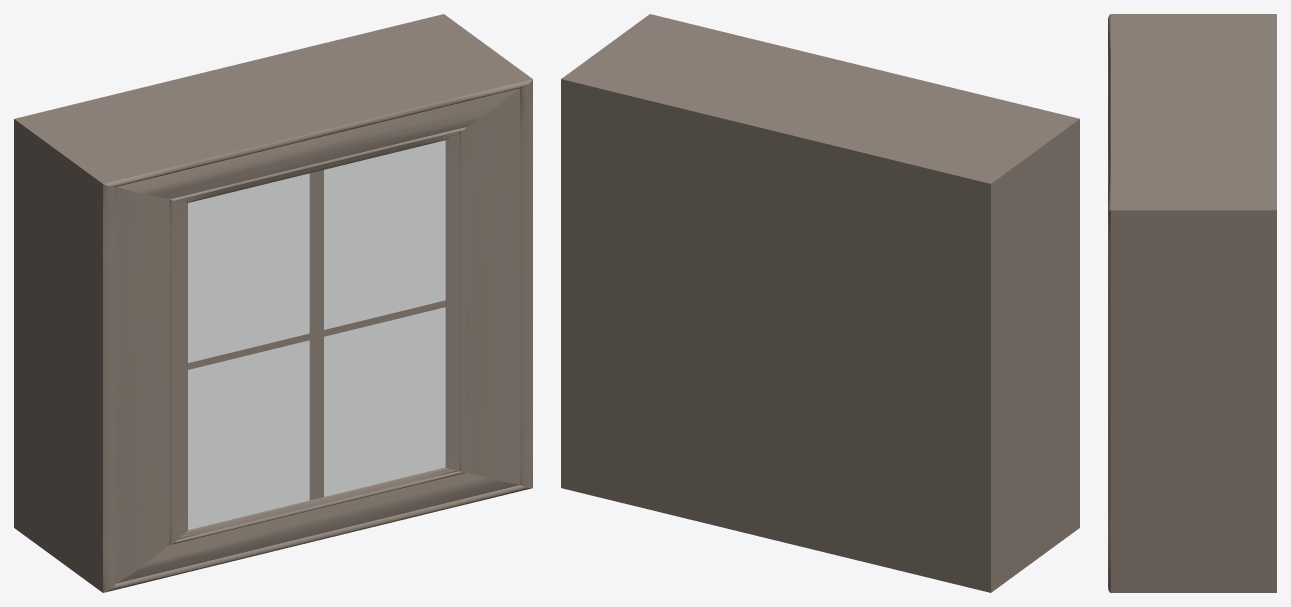
Rendered from Wall-Cabinet-with-Doors-Prepped-for-Glass_std_001_W33in.glb.
The picture shows the model from 3 angles, left to right: view 1: azimuth 30°, elevation 25°; view 2: azimuth 150°, elevation 25°; view 3: azimuth 270°, elevation 25°; orthographic projection. The views are drawn at different scales.
Visible parts, largest first — view 1: Wall-Cabinet-with-Doors-Prepped-for-Glass.std.001_W33in; view 2: Wall-Cabinet-with-Doors-Prepped-for-Glass.std.001_W33in; view 3: Wall-Cabinet-with-Doors-Prepped-for-Glass.std.001_W33in.
Part boxes in pixels (left/top/right/bottom): Wall-Cabinet-with-Doors-Prepped-for-Glass.std.001_W33in: left=14, top=14, right=532, bottom=592; Wall-Cabinet-with-Doors-Prepped-for-Glass.std.001_W33in: left=561, top=14, right=1079, bottom=592; Wall-Cabinet-with-Doors-Prepped-for-Glass.std.001_W33in: left=1108, top=14, right=1276, bottom=592.
Bounding box in the file's own units: 0.8382 × 0.762 × 0.3048.
